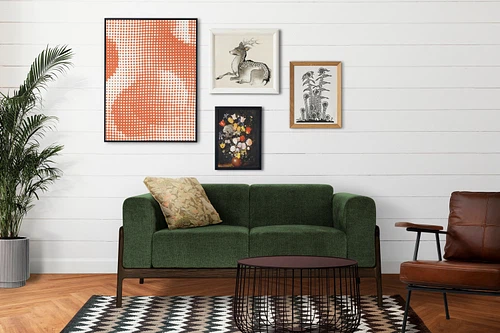chair: (392, 189, 499, 333)
large plant: (0, 43, 74, 289)
sofa: (113, 175, 384, 311)
table: (232, 254, 362, 333)
wall art: (102, 15, 198, 143), (207, 26, 283, 95), (287, 58, 344, 130), (213, 104, 263, 171)
